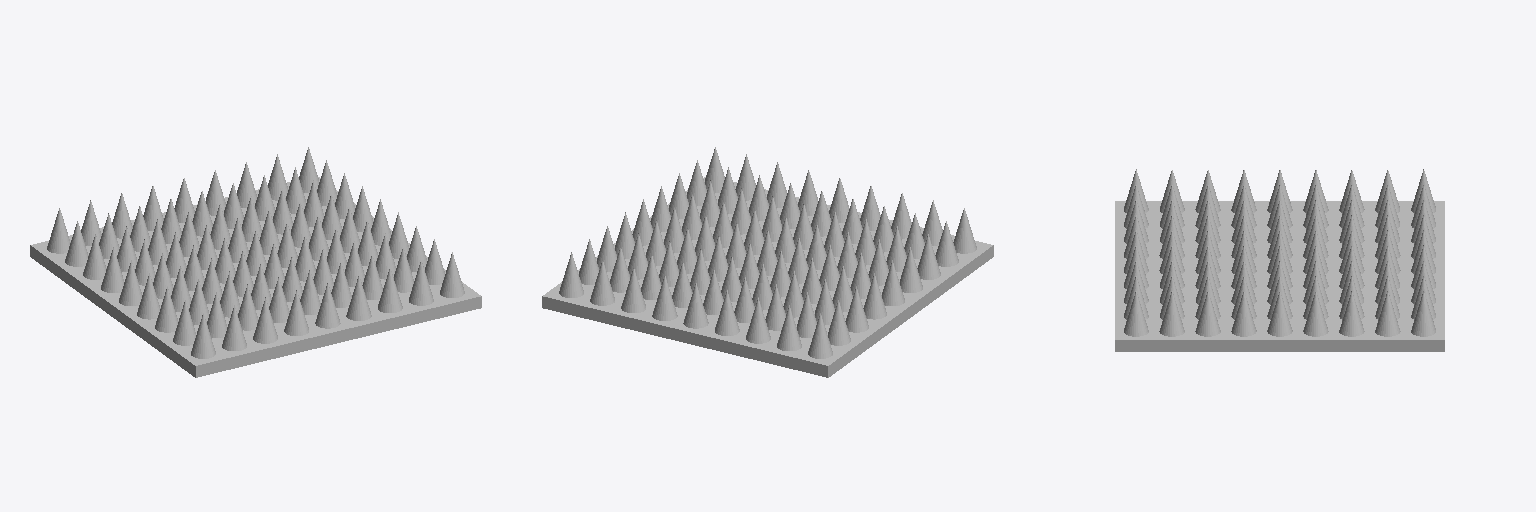
The model's file is ConeSpikes_sqaure_wrapped.obj.
3 views of the same model, side by side, from view 1: azimuth 30°, elevation 25°; view 2: azimuth 150°, elevation 25°; view 3: azimuth 270°, elevation 25° (orthographic).
Visible parts, largest first — view 1: Cone_Spikes; view 2: Cone_Spikes; view 3: Cone_Spikes.
Part boxes in pixels (x1,y1,x2,y2): Cone_Spikes: (30, 147, 481, 377); Cone_Spikes: (542, 147, 993, 377); Cone_Spikes: (1115, 169, 1444, 351).
Size of the model in its own units: 1 by 0.1779 by 1.